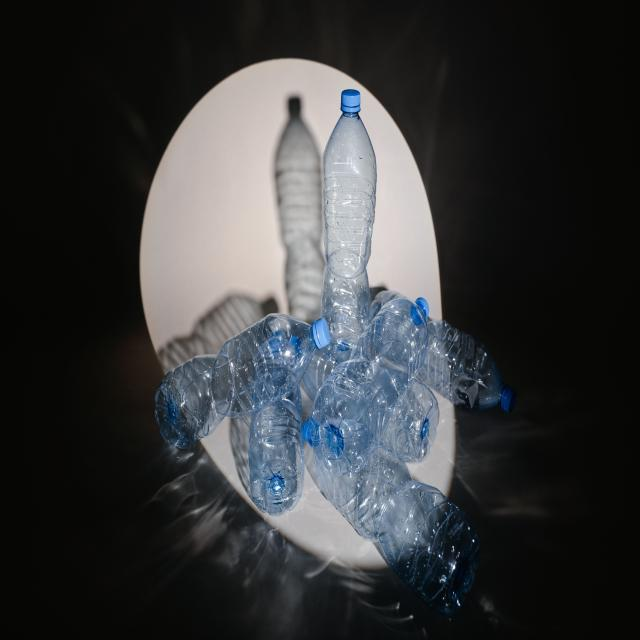Bottle: (315, 444, 479, 613), (156, 315, 329, 447), (304, 359, 439, 474), (322, 90, 376, 363), (377, 481, 479, 613), (304, 359, 397, 475), (276, 98, 324, 322), (315, 446, 411, 540), (419, 319, 516, 412), (353, 298, 428, 393), (249, 386, 304, 515), (155, 356, 223, 448), (381, 379, 439, 462), (303, 350, 335, 402)
